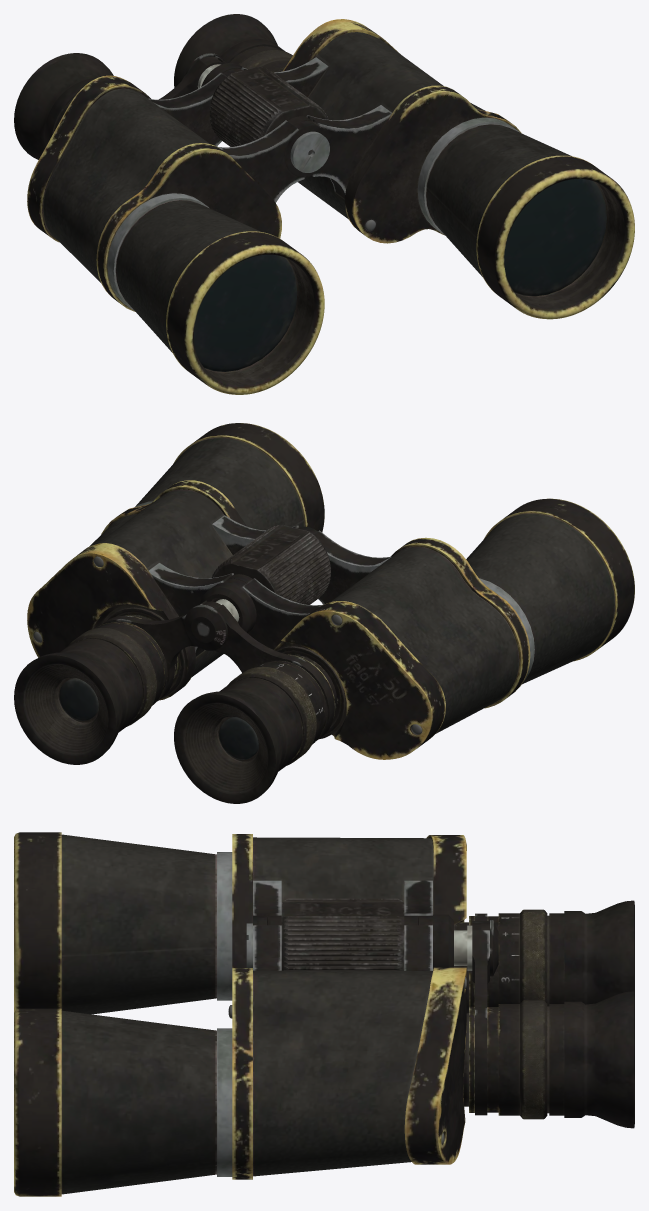
File: binoculars.glb
The picture shows the model from 3 angles, top to bottom: view 1: azimuth 30°, elevation 25°; view 2: azimuth 150°, elevation 25°; view 3: azimuth 270°, elevation 25°; orthographic projection. The views are drawn at different scales.
Parts seen in each view (by area): view 1: vintage_binocular_right_prism, vintage_binocular_left_prism, vintage_binocular_right_lens, vintage_binocular_focus, vintage_binocular_left_lens, vintage_binocular_middle; view 2: vintage_binocular_right_prism, vintage_binocular_left_prism, vintage_binocular_left_lens, vintage_binocular_right_lens, vintage_binocular_focus, vintage_binocular_diopter, vintage_binocular_eye_relief, vintage_binocular_middle; view 3: vintage_binocular_left_prism, vintage_binocular_right_prism, vintage_binocular_left_lens, vintage_binocular_right_lens, vintage_binocular_focus, vintage_binocular_diopter, vintage_binocular_middle, vintage_binocular_eye_relief.
Boxes of the visible parts, x1,y1,x2,y2 form: vintage_binocular_right_prism: [27, 73, 324, 394]; vintage_binocular_left_prism: [223, 19, 634, 319]; vintage_binocular_right_lens: [14, 53, 224, 159]; vintage_binocular_focus: [209, 67, 328, 146]; vintage_binocular_left_lens: [174, 14, 292, 87]; vintage_binocular_middle: [201, 63, 329, 172]; vintage_binocular_right_prism: [228, 498, 634, 759]; vintage_binocular_left_prism: [27, 423, 324, 700]; vintage_binocular_left_lens: [14, 600, 217, 764]; vintage_binocular_right_lens: [174, 601, 336, 803]; vintage_binocular_focus: [211, 525, 330, 604]; vintage_binocular_diopter: [227, 661, 324, 765]; vintage_binocular_eye_relief: [184, 599, 239, 650]; vintage_binocular_middle: [200, 582, 256, 633]; vintage_binocular_left_prism: [14, 915, 466, 1196]; vintage_binocular_right_prism: [14, 832, 466, 1018]; vintage_binocular_left_lens: [463, 923, 634, 1128]; vintage_binocular_right_lens: [456, 900, 634, 1012]; vintage_binocular_focus: [281, 898, 404, 970]; vintage_binocular_diopter: [498, 909, 547, 1003]; vintage_binocular_middle: [246, 914, 453, 970]; vintage_binocular_eye_relief: [454, 920, 498, 976].
Bounding box in the file's own units: 0.194 × 0.0684 × 0.1992.
Materials: 1 (1 with a texture image).
